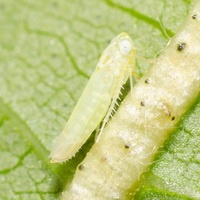insect: (50, 33, 135, 162)
